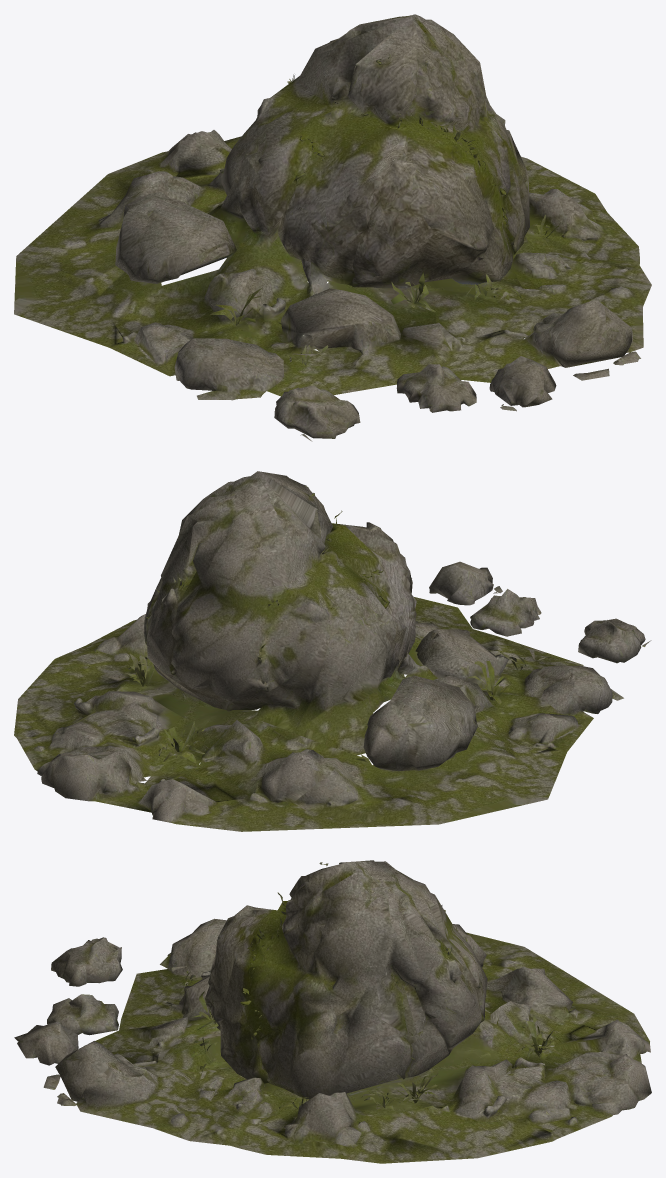
Rendered from rock-boulder.glb.
The picture shows the model from 3 angles, top to bottom: view 1: azimuth 30°, elevation 25°; view 2: azimuth 150°, elevation 25°; view 3: azimuth 270°, elevation 25°; orthographic projection. The views are drawn at different scales.
Size of the model in its own units: 0.7906 by 0.3257 by 0.8779.
Materials: 1 (1 with a texture image).
